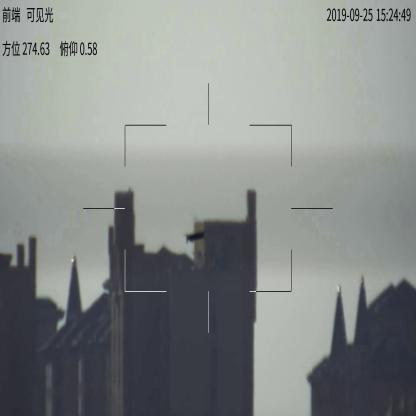uav: (184, 229, 206, 245)
